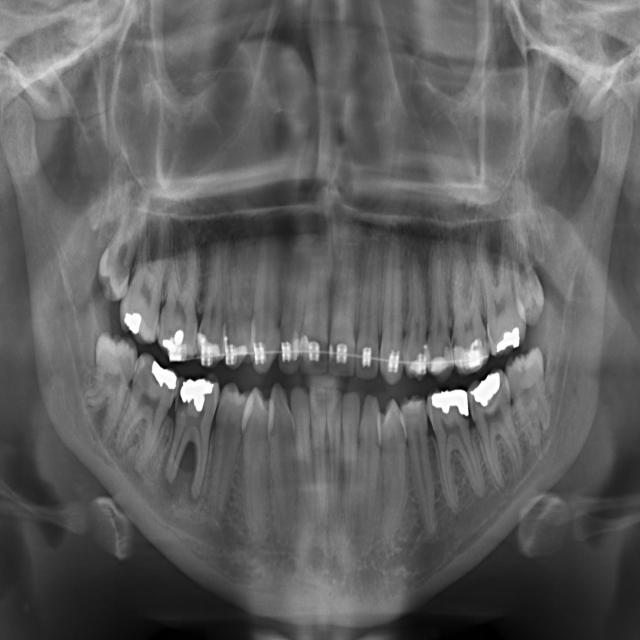AmalgamRestoration: (429, 379, 474, 422), (493, 303, 526, 360), (470, 367, 502, 415), (160, 328, 194, 366), (149, 358, 179, 401), (181, 378, 217, 411), (121, 303, 149, 335)
CompositeResinRestoration: (426, 314, 454, 381), (454, 305, 474, 375), (200, 333, 230, 365)
DentalCaries: (126, 356, 158, 441), (453, 399, 478, 458), (170, 377, 190, 445), (434, 318, 454, 377), (474, 305, 488, 375), (197, 299, 213, 360), (453, 314, 465, 379)
ImpactedTooth: (88, 333, 137, 458), (510, 348, 551, 454)
periapicalLesion: (158, 443, 212, 509)
